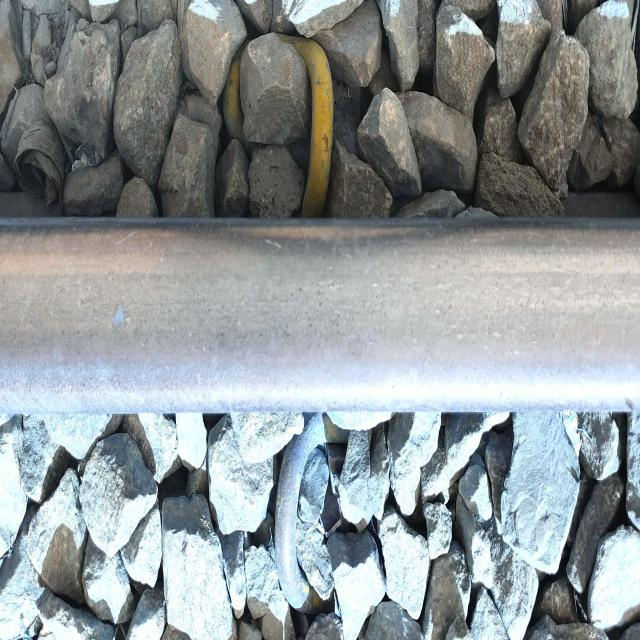Good Fasteners: (209, 24, 372, 219), (275, 414, 326, 613)
